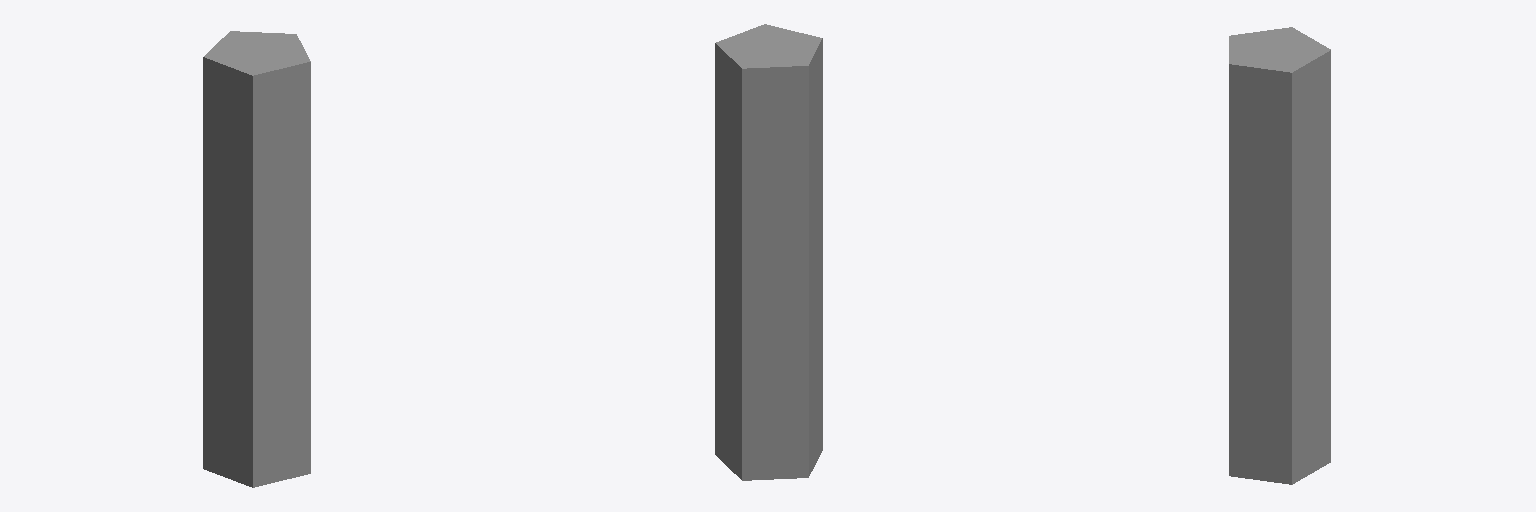
The model's file is NegocioQueSeguraHelice.obj.
3 views of the same model, side by side, from view 1: azimuth 30°, elevation 25°; view 2: azimuth 150°, elevation 25°; view 3: azimuth 270°, elevation 25° (orthographic).
Visible parts, largest first — view 1: Cylinder; view 2: Cylinder; view 3: Cylinder.
Part boxes in pixels (left/top/right/bottom): Cylinder: left=203, top=31, right=310, bottom=487; Cylinder: left=715, top=24, right=822, bottom=480; Cylinder: left=1229, top=27, right=1330, bottom=484.
Size of the model in its own units: 0.9511 by 4 by 0.9045.